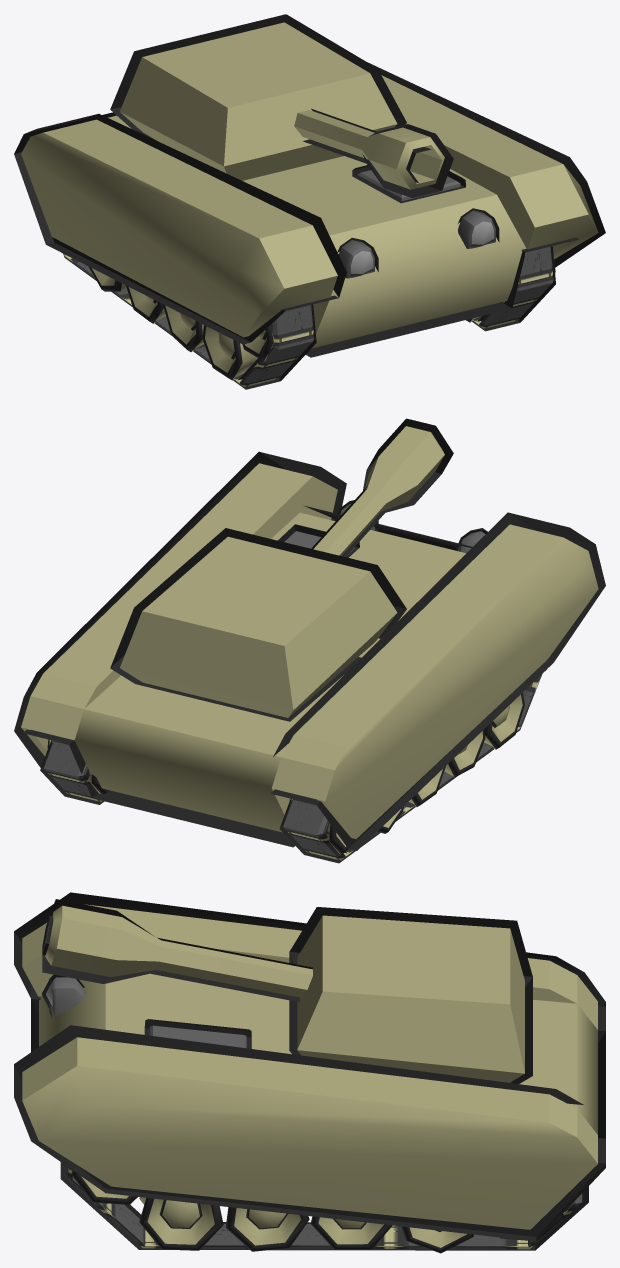
The model's file is tank.glb.
3 views of the same model, one above another, from view 1: azimuth 30°, elevation 25°; view 2: azimuth 150°, elevation 25°; view 3: azimuth 270°, elevation 25° (orthographic). The views are drawn at different scales.
Visible parts, largest first — view 1: pCube1, pCube4, pCube11, pCylinder2, pCube12, pCube9, pCube2, pCylinder34, pCylinder23, pCube7, pCylinder22, pCube5 (+6 smaller); view 2: pCube1, pCube4, pCube11, pCylinder2, pCube12, pCube9, pCylinder34, pCube2, pCylinder23, pCylinder22, pCube10; view 3: pCube1, pCube4, pCube11, pCylinder2, pCube2, pCube12, pCylinder5, pCylinder34, pCylinder6, pCylinder7, pCube8, pCube6 (+4 smaller).
Boxes of the visible parts, x1=… form: pCube1: x1=21, y1=75, x2=598, y2=348; pCube4: x1=120, y1=22, x2=397, y2=180; pCube11: x1=14, y1=62, x2=605, y2=357; pCylinder2: x1=294, y1=110, x2=444, y2=189; pCube12: x1=110, y1=14, x2=406, y2=140; pCube9: x1=64, y1=254, x2=314, y2=386; pCube2: x1=473, y1=246, x2=553, y2=328; pCylinder34: x1=303, y1=108, x2=453, y2=197; pCylinder23: x1=202, y1=325, x2=257, y2=380; pCube7: x1=458, y1=210, x2=495, y2=248; pCylinder22: x1=163, y1=304, x2=203, y2=351; pCube5: x1=338, y1=240, x2=374, y2=278; pCube1: x1=21, y1=463, x2=598, y2=838; pCube4: x1=120, y1=536, x2=397, y2=717; pCube11: x1=14, y1=451, x2=605, y2=850; pCylinder2: x1=313, y1=426, x2=444, y2=555; pCube12: x1=110, y1=528, x2=406, y2=721; pCube9: x1=283, y1=674, x2=541, y2=860; pCylinder34: x1=311, y1=418, x2=453, y2=556; pCube2: x1=43, y1=740, x2=102, y2=801; pCylinder23: x1=484, y1=692, x2=524, y2=749; pCylinder22: x1=444, y1=729, x2=485, y2=777; pCube10: x1=279, y1=674, x2=542, y2=863; pCube1: x1=22, y1=904, x2=597, y2=1229; pCube4: x1=297, y1=915, x2=524, y2=1082; pCube11: x1=14, y1=892, x2=605, y2=1241; pCylinder2: x1=45, y1=905, x2=312, y2=997; pCube2: x1=67, y1=1166, x2=582, y2=1249; pCube12: x1=289, y1=907, x2=532, y2=1083; pCylinder5: x1=139, y1=1197, x2=223, y2=1250; pCylinder34: x1=42, y1=899, x2=312, y2=1002; pCylinder6: x1=225, y1=1207, x2=309, y2=1251; pCylinder7: x1=310, y1=1216, x2=392, y2=1249; pCube8: x1=60, y1=1162, x2=588, y2=1250; pCube6: x1=149, y1=1025, x2=246, y2=1048.
Bounding box in the file's own units: 8.28 × 5.61 × 11.07.
5 materials, 1 textured.
